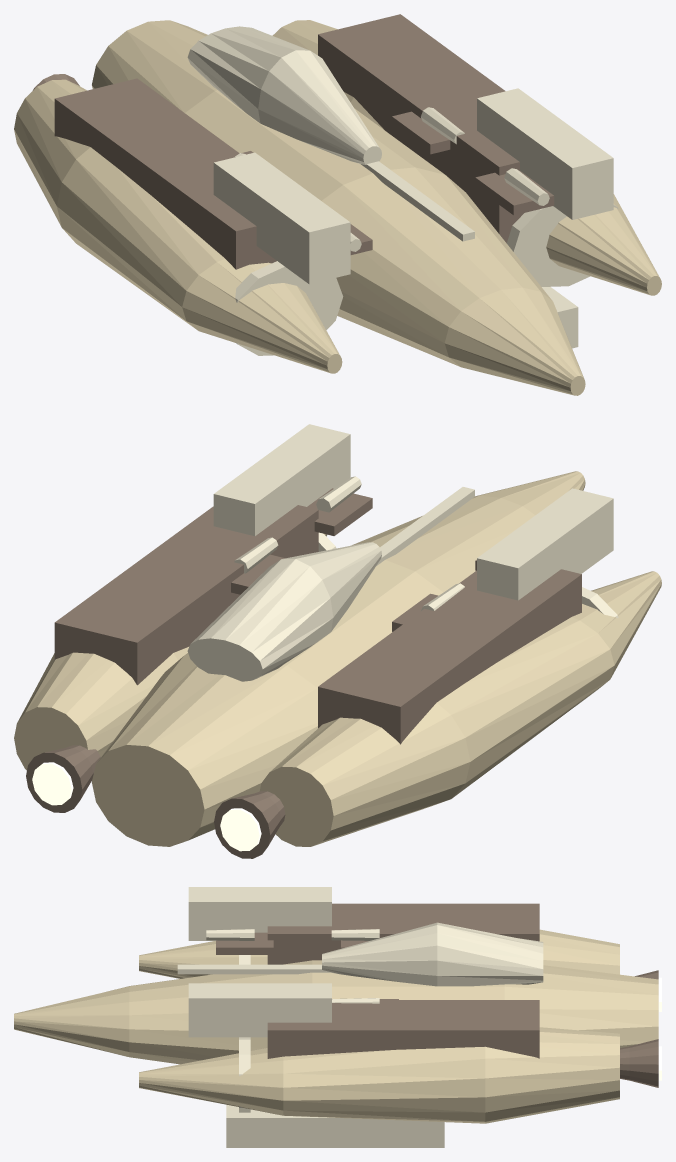
3 renders of one model, top to bottom at view 1: azimuth 30°, elevation 25°; view 2: azimuth 150°, elevation 25°; view 3: azimuth 270°, elevation 25°, orthographic. The views are drawn at different scales.
Size of the model in its own units: 10.46 by 5.27 by 18.11.
